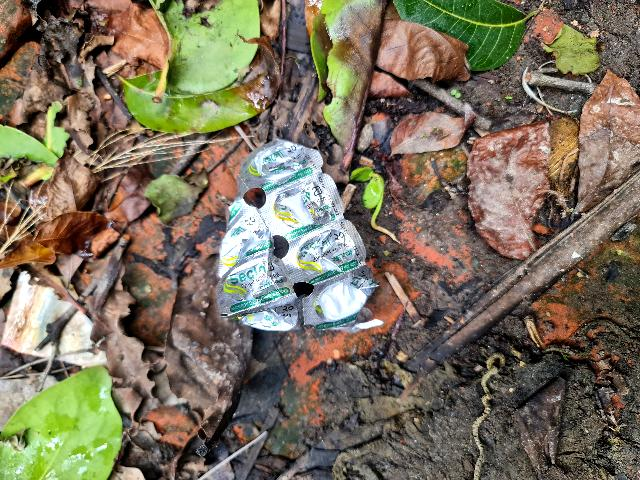medicine: (181, 128, 383, 349)
